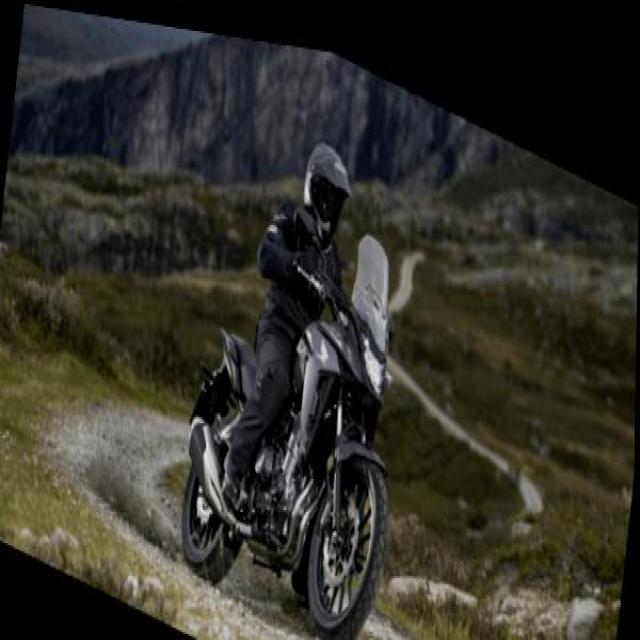CB500X: (172, 144, 420, 638)
